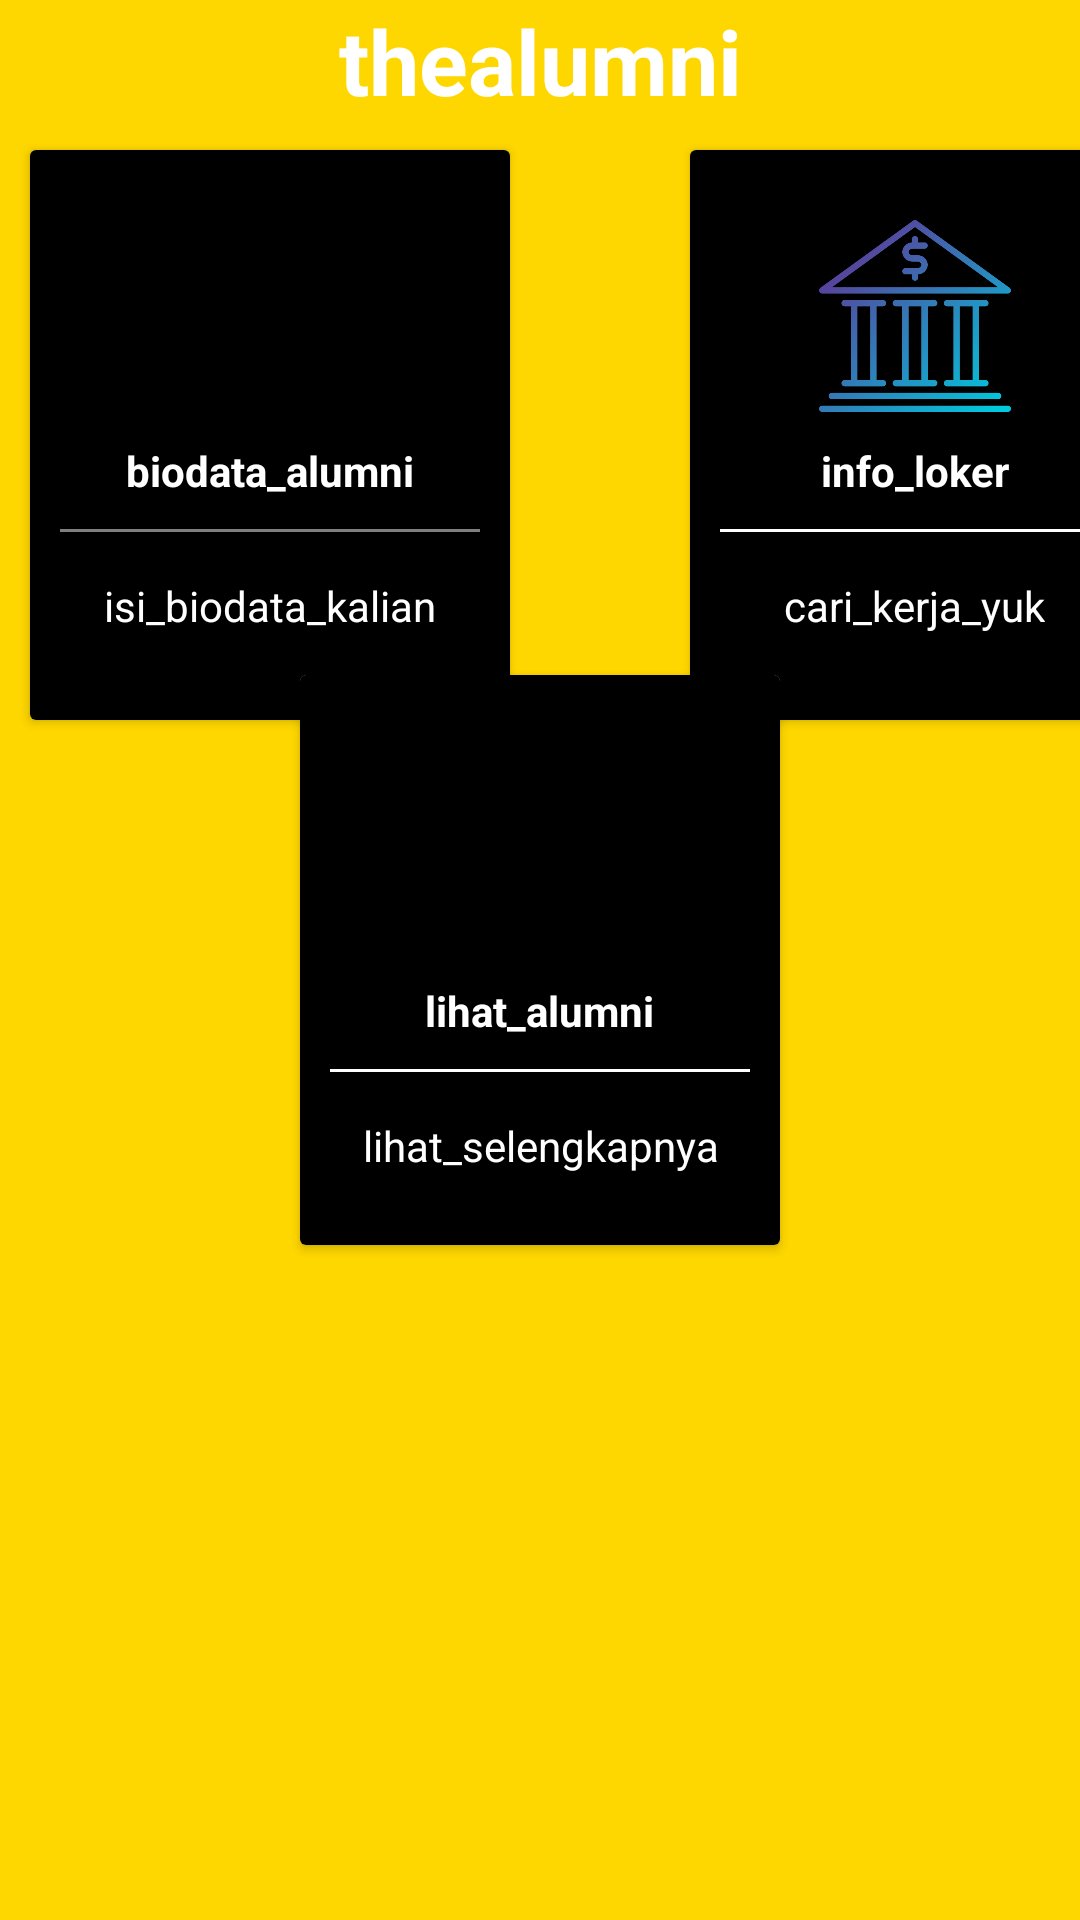

Where to tap for icons on this 1080w x 1920h app screen, as (x=x, y=y):
bank: (x=915, y=316)
